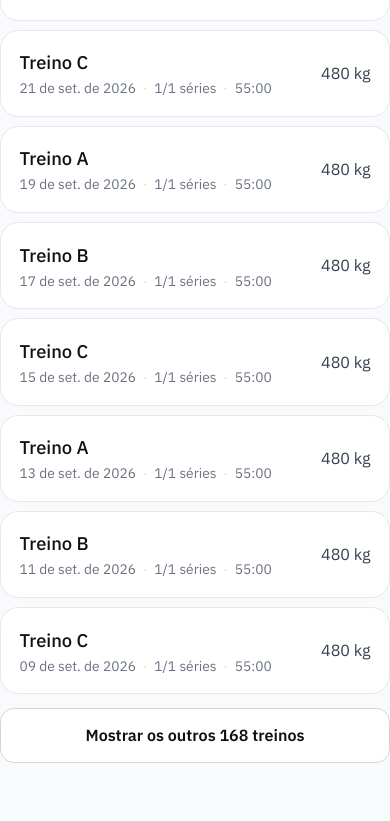
Test case: EVOLUTION-05 — histórico longo não domina a tela › monta o primeiro lote, e o botão traz o resto sem perder nada
(page scrolled)
Click the button "Mostrar os outros 168 treinos" at (195, 736), box [0,708,389,763]
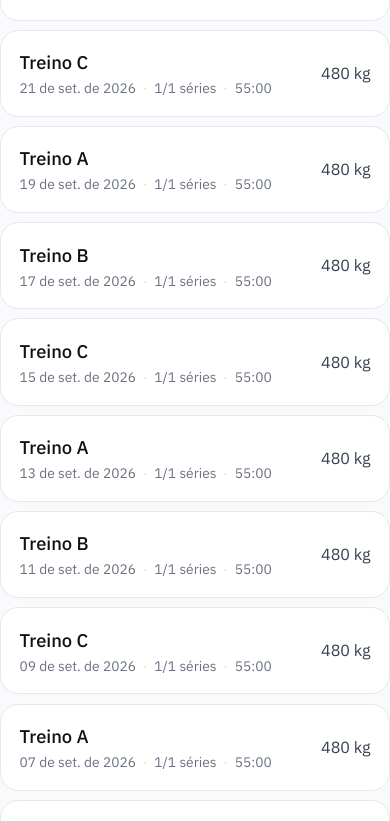
expect the button "Mostrar os outros" is gone: met
